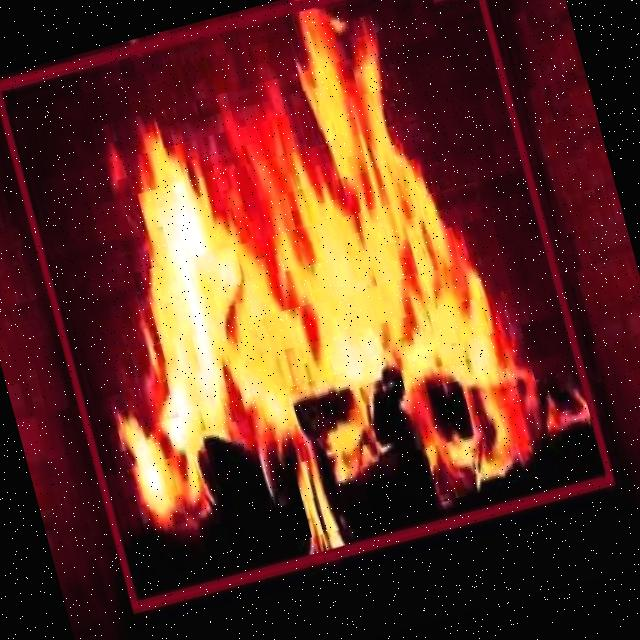fire: (0, 0, 614, 609)
